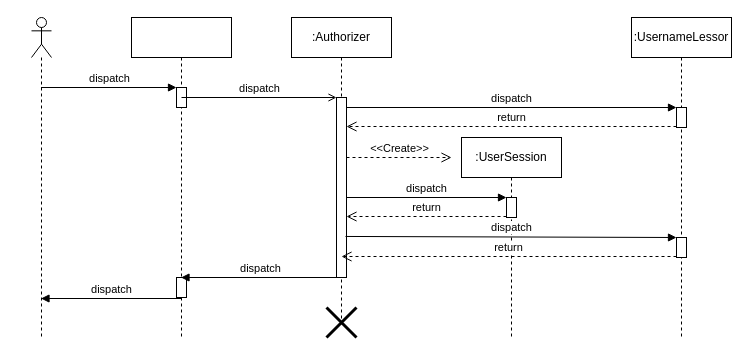
This 749x356 diagram has some shape labels left out. Each missing label, with the box of its shape:
:WSConector: (130, 16, 232, 338)
Frontend: (30, 16, 52, 338)
